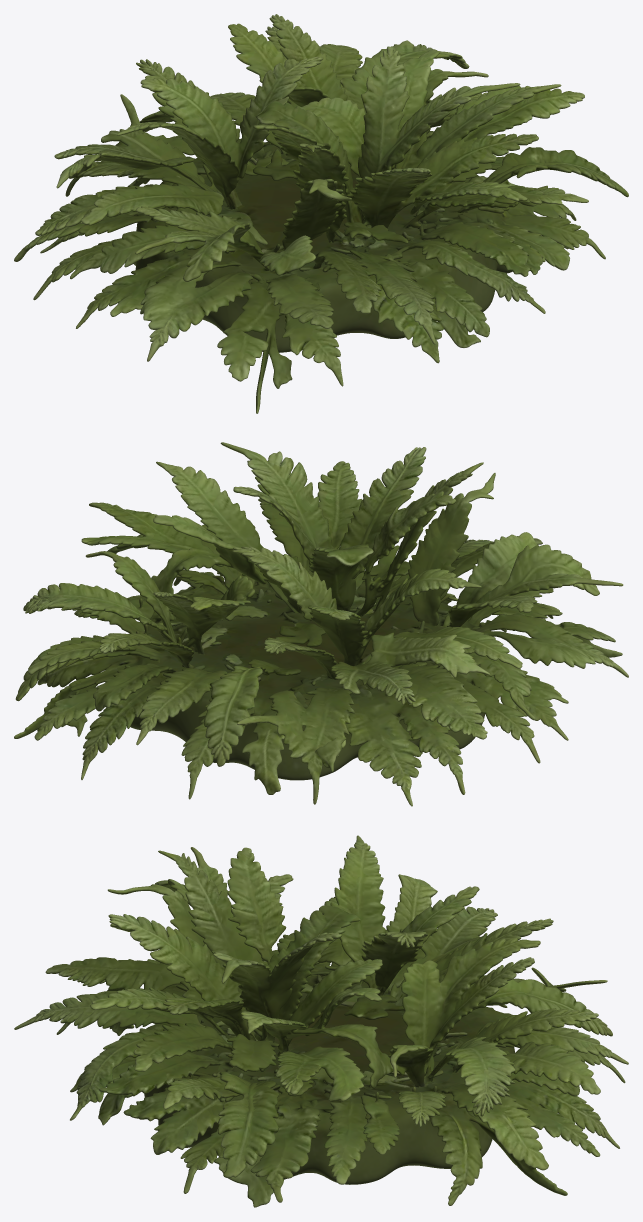
File: fern-ground-cover.glb
3 views of the same model, one above another, from view 1: azimuth 30°, elevation 25°; view 2: azimuth 150°, elevation 25°; view 3: azimuth 270°, elevation 25° (orthographic). The views are drawn at different scales.
Visible parts, largest first — view 1: tripo_node_d77686b1-a52b-43df-a9e6-350d4c6bb60b; view 2: tripo_node_d77686b1-a52b-43df-a9e6-350d4c6bb60b; view 3: tripo_node_d77686b1-a52b-43df-a9e6-350d4c6bb60b.
Part boxes in pixels (x1,y1,x2,y2): tripo_node_d77686b1-a52b-43df-a9e6-350d4c6bb60b: (14, 14, 628, 413); tripo_node_d77686b1-a52b-43df-a9e6-350d4c6bb60b: (14, 442, 628, 806); tripo_node_d77686b1-a52b-43df-a9e6-350d4c6bb60b: (14, 835, 628, 1207).
Bounding box in the file's own units: 0.965 × 0.3994 × 0.9828.
1 material, 1 textured.
